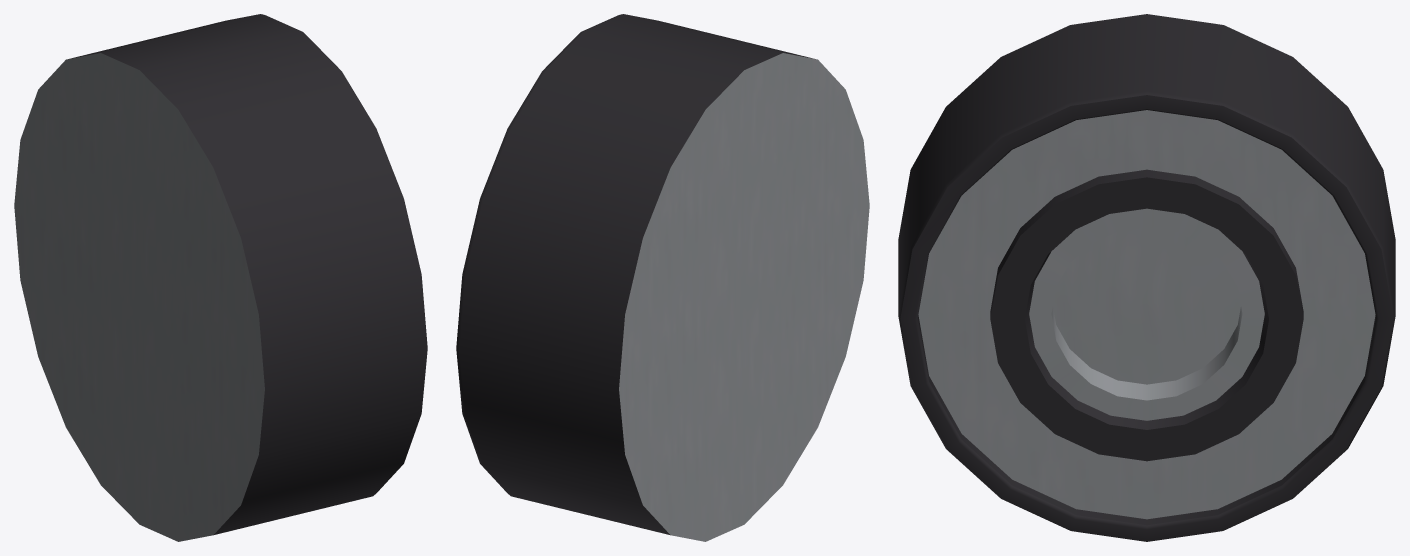
The model's file is buttonBase.fbx.
The picture shows the model from 3 angles, left to right: view 1: azimuth 30°, elevation 25°; view 2: azimuth 150°, elevation 25°; view 3: azimuth 270°, elevation 25°; orthographic projection.
Parts seen in each view (by area): view 1: pCylinder1; view 2: pCylinder1; view 3: pCylinder1.
Part boxes in pixels (x1,y1,x2,y2): pCylinder1: [14, 14, 427, 541]; pCylinder1: [456, 14, 869, 541]; pCylinder1: [898, 14, 1395, 541].
Bounding box in the file's own units: 12.97 × 34.04 × 34.04.
Materials: 2 (2 with a texture image).
